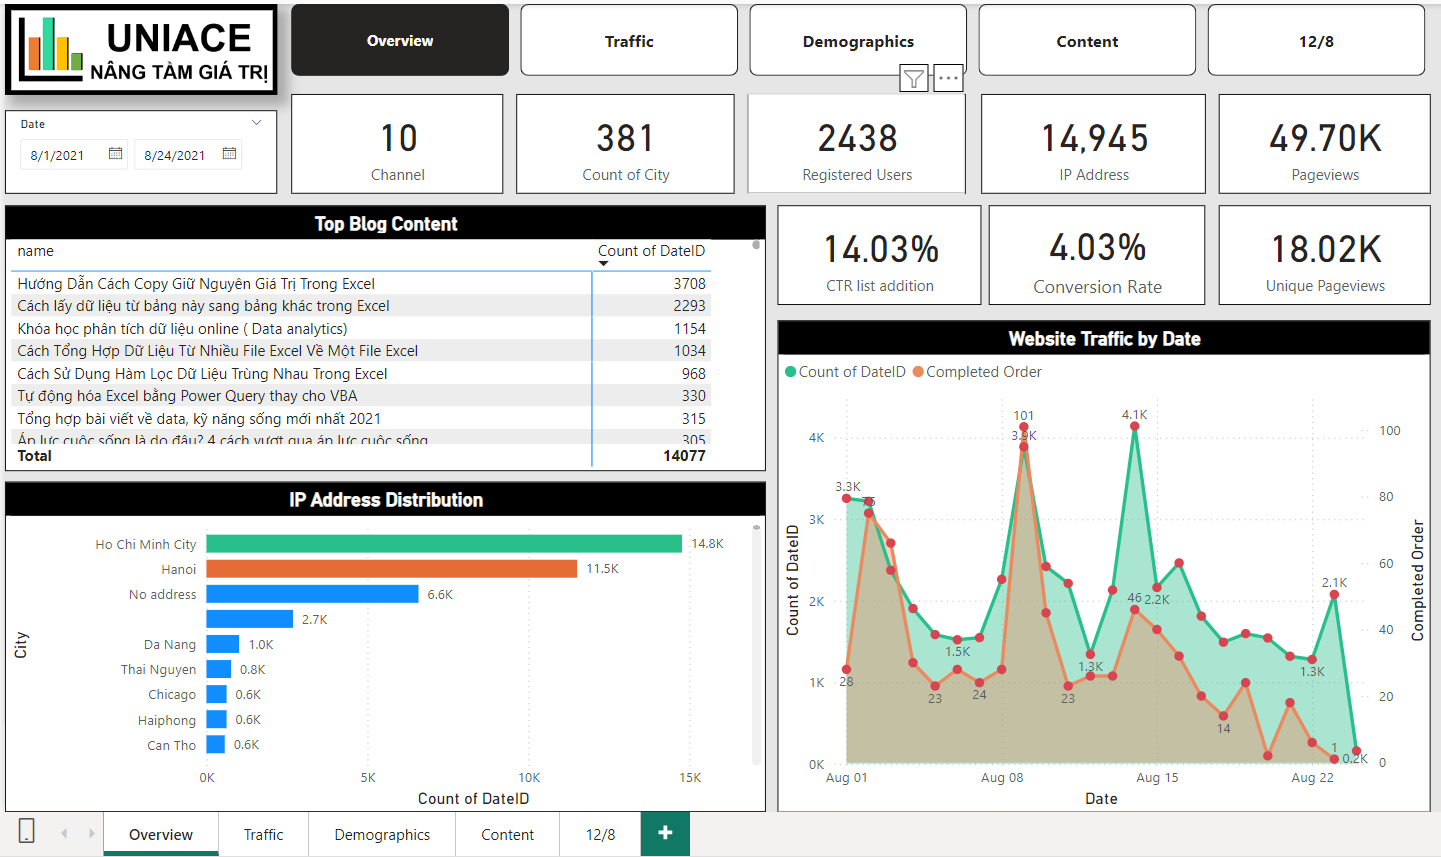

The dashboard page shown, as its layout file describes it:
{"tool":"powerbi","page":{"name":"Overview","canvas":[1280,720],"ordinal":0},"visuals":[{"type":"image","box":[0,0,242.7,80.9],"z":0},{"type":"pageNavigator","box":[255,0,1014.6,64.4],"z":1000},{"type":"areaChart","title":"Website Traffic by Date","fields":{"Category":["calendar.Date"],"Y":["CountNonNull(seo_analytics.DateID)"],"Y2":["seo_analytics.Count of name for Completed Order"]},"box":[687.5,281.8,581.8,438.1],"z":2000},{"type":"clusteredBarChart","title":"IP Address Distribution","fields":{"Y":["CountNonNull(seo_analytics.DateID)"],"Category":["location.City"]},"box":[0,425.4,677.6,294.4],"z":3000},{"type":"card","fields":{"Values":["Count(location.City)"]},"box":[455,80.3,194.4,88.8],"z":4000},{"type":"card","fields":{"Values":["Count(seo_analytics.LocationID)"]},"box":[869.2,80.3,200,88.8],"z":5000},{"type":"slicer","fields":{"Values":["calendar.Date"]},"box":[0,94.4,242.3,74.7],"z":6000},{"type":"card","fields":{"Values":["Count(seo_analytics.email)"]},"box":[660.7,80.3,194.4,88.8],"z":7000},{"type":"card","fields":{"Values":["Count(seo_analytics.DateID)"]},"box":[1080.5,178.9,188.8,88.8],"z":8000},{"type":"card","fields":{"Values":["Count(seo_analytics.Channel)"]},"box":[255,80.3,188.8,88.8],"z":9000},{"type":"pivotTable","title":"Top Blog Content","fields":{"Rows":["seo_analytics.name"],"Values":["CountNonNull(seo_analytics.DateID)"]},"box":[0,178.9,677.6,236.7],"z":10000},{"type":"card","fields":{"Values":["Measure Table.Conversion Rate"]},"box":[876.3,178.9,193,88.8],"z":11000},{"type":"card","fields":{"Values":["Measure Table.CTR list addition"]},"box":[687.5,178.9,181.7,88.8],"z":12000},{"type":"card","fields":{"Values":["CountNonNull(seo_analytics.DateID)"]},"box":[1080.5,80.3,188.8,88.8],"z":13000}]}

Visuals, with their boxes on the page's 1280x720 design canvas (x1, y1, x2, y2). These are canvas units, not pixel positions in the 1441x857 screenshot, which may show the page scaled, cropped or inside an application window:
image: (0,0,243,81)
pageNavigator: (255,0,1270,64)
"Website Traffic by Date" areaChart: (688,282,1269,720)
"IP Address Distribution" clusteredBarChart: (0,425,678,720)
card - Count(location.City): (455,80,649,169)
card - Count(seo_analytics.LocationID): (869,80,1069,169)
slicer - calendar.Date: (0,94,242,169)
card - Count(seo_analytics.email): (661,80,855,169)
card - Count(seo_analytics.DateID): (1080,179,1269,268)
card - Count(seo_analytics.Channel): (255,80,444,169)
"Top Blog Content" pivotTable: (0,179,678,416)
card - Measure Table.Conversion Rate: (876,179,1069,268)
card - Measure Table.CTR list addition: (688,179,869,268)
card - CountNonNull(seo_analytics.DateID): (1080,80,1269,169)
